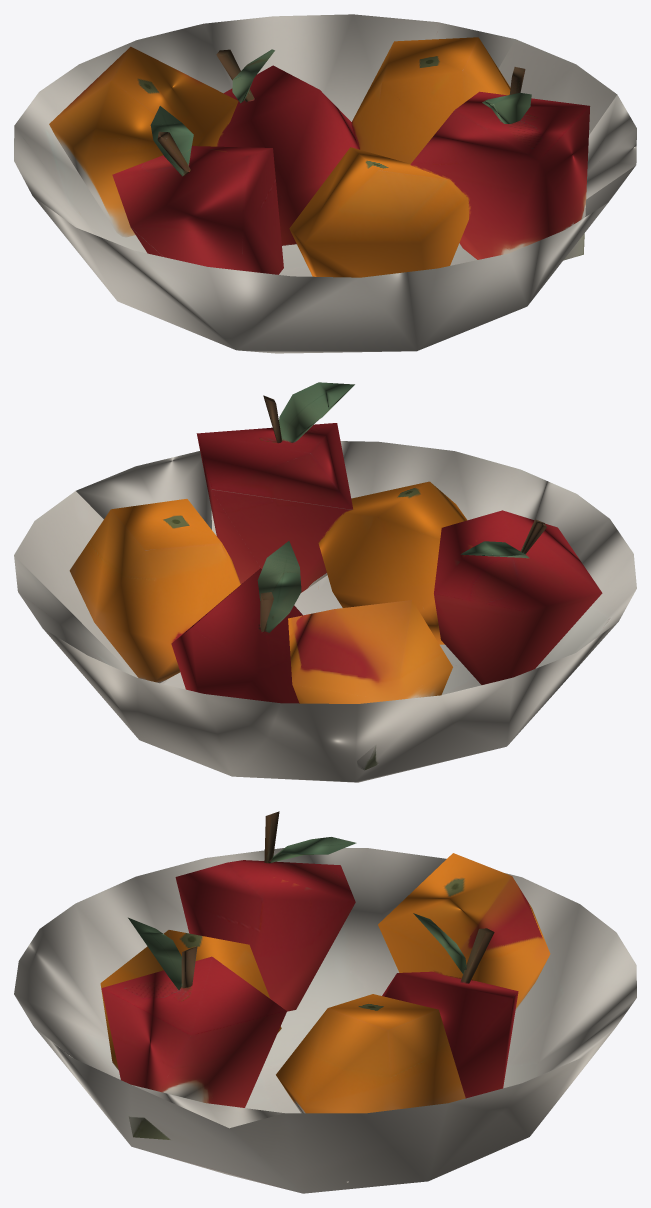
Rendered from fruit_bowl.fbx.
The picture shows the model from 3 angles, top to bottom: view 1: azimuth 30°, elevation 25°; view 2: azimuth 150°, elevation 25°; view 3: azimuth 270°, elevation 25°; orthographic projection.
Visible parts, largest first — view 1: Mesh_0; view 2: Mesh_0; view 3: Mesh_0.
Boxes of the visible parts, bbox=[...] form: Mesh_0: bbox=[14, 14, 636, 353]; Mesh_0: bbox=[14, 382, 636, 782]; Mesh_0: bbox=[14, 811, 636, 1193].
Bounding box in the file's own units: 95.75 × 42.72 × 95.31.
Materials: 1 (1 with a texture image).
